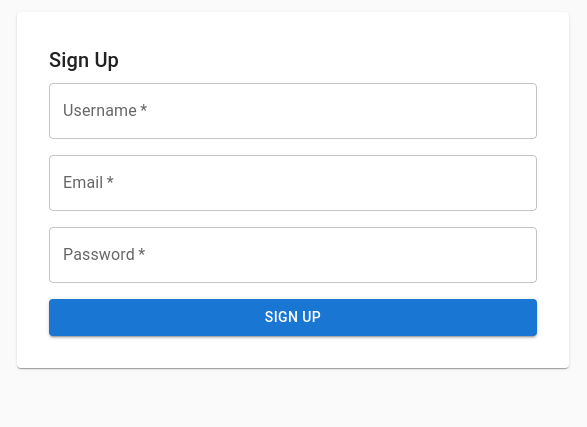
Test: signup form creates user
Type "testuser" into the field labelled "Username *" at coordinates (293, 111), box [49,83,537,139]
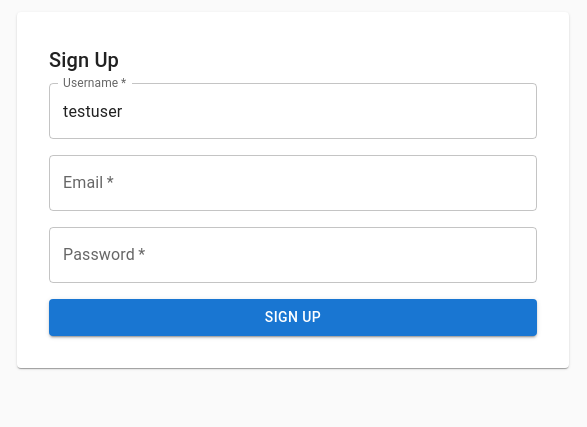
Type "test@example.com" into the field labelled "Email *" at coordinates (293, 183), box [49,155,537,211]
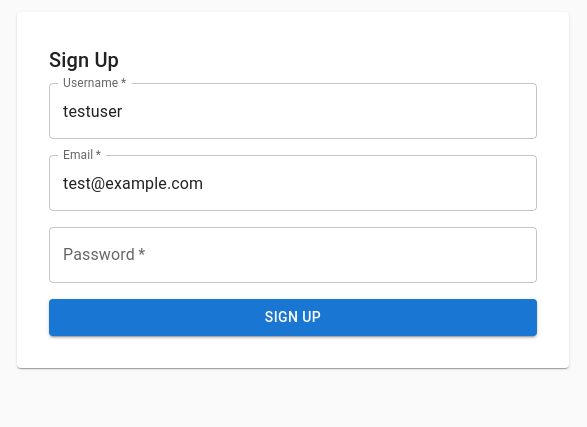
Type "password123" into the password field labelled "Password *" at coordinates (293, 255), box [49,227,537,283]
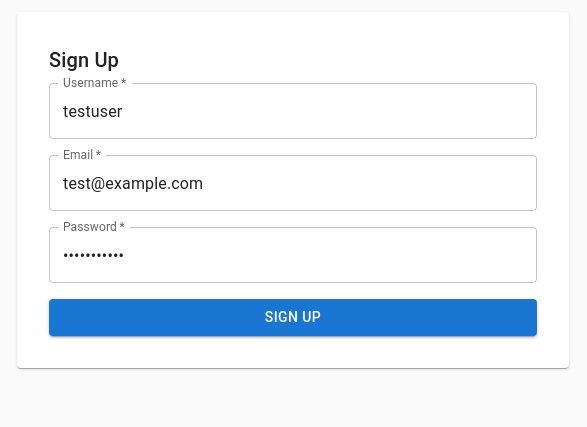
Click the button "Sign Up" at coordinates (293, 317), box [49,299,537,336]
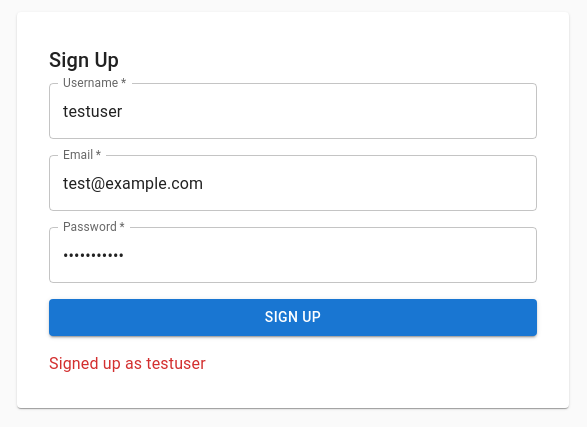
Expected: the text "Signed up as testuser" is shown, [49,354,206,372]
